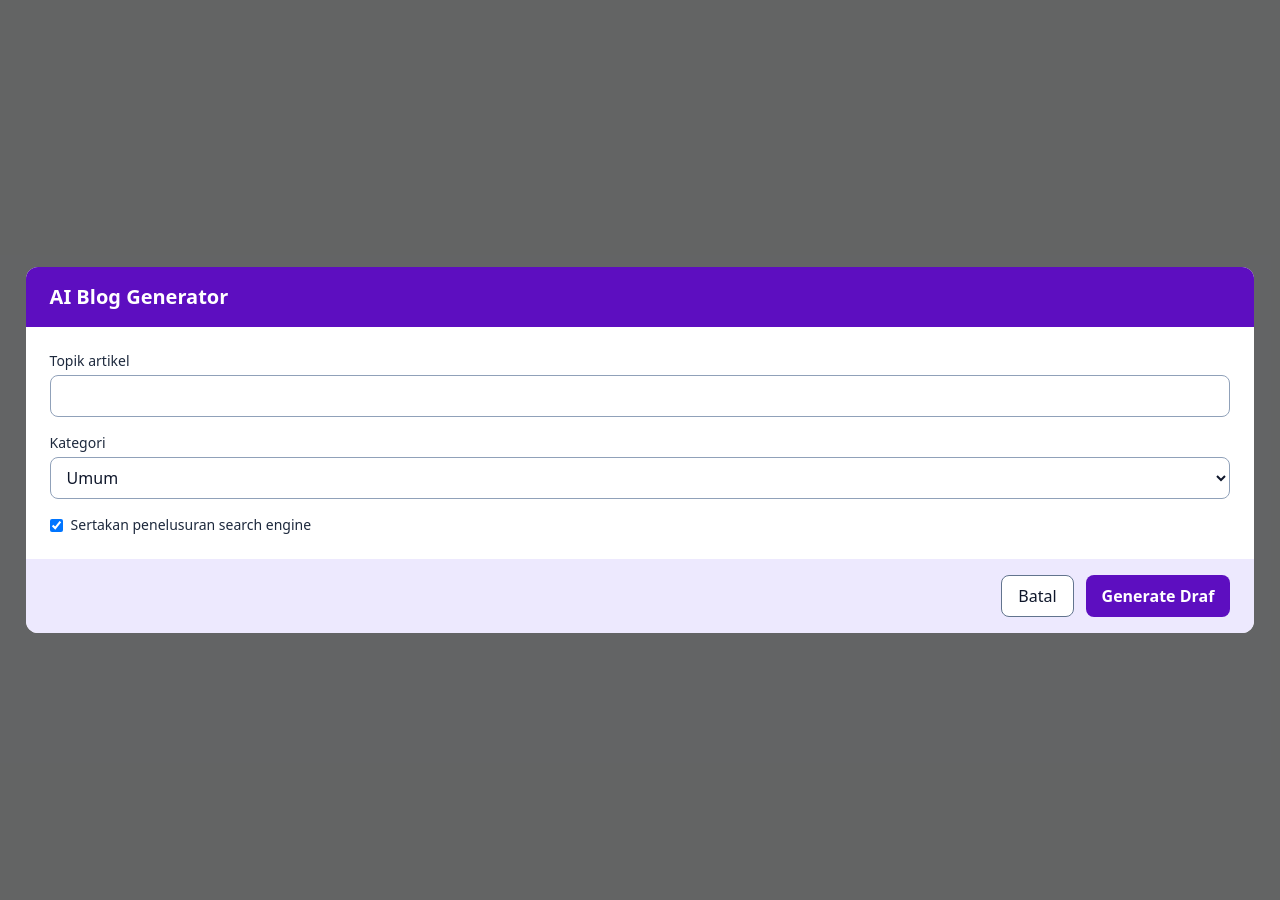
Test: AiPostGeneratorModal › dapat menonaktifkan search engine dan menangani draf tanpa sumber
Type "AI" into the field labelled "Topik artikel". click: (640, 396)
box: [50,375,1230,417]
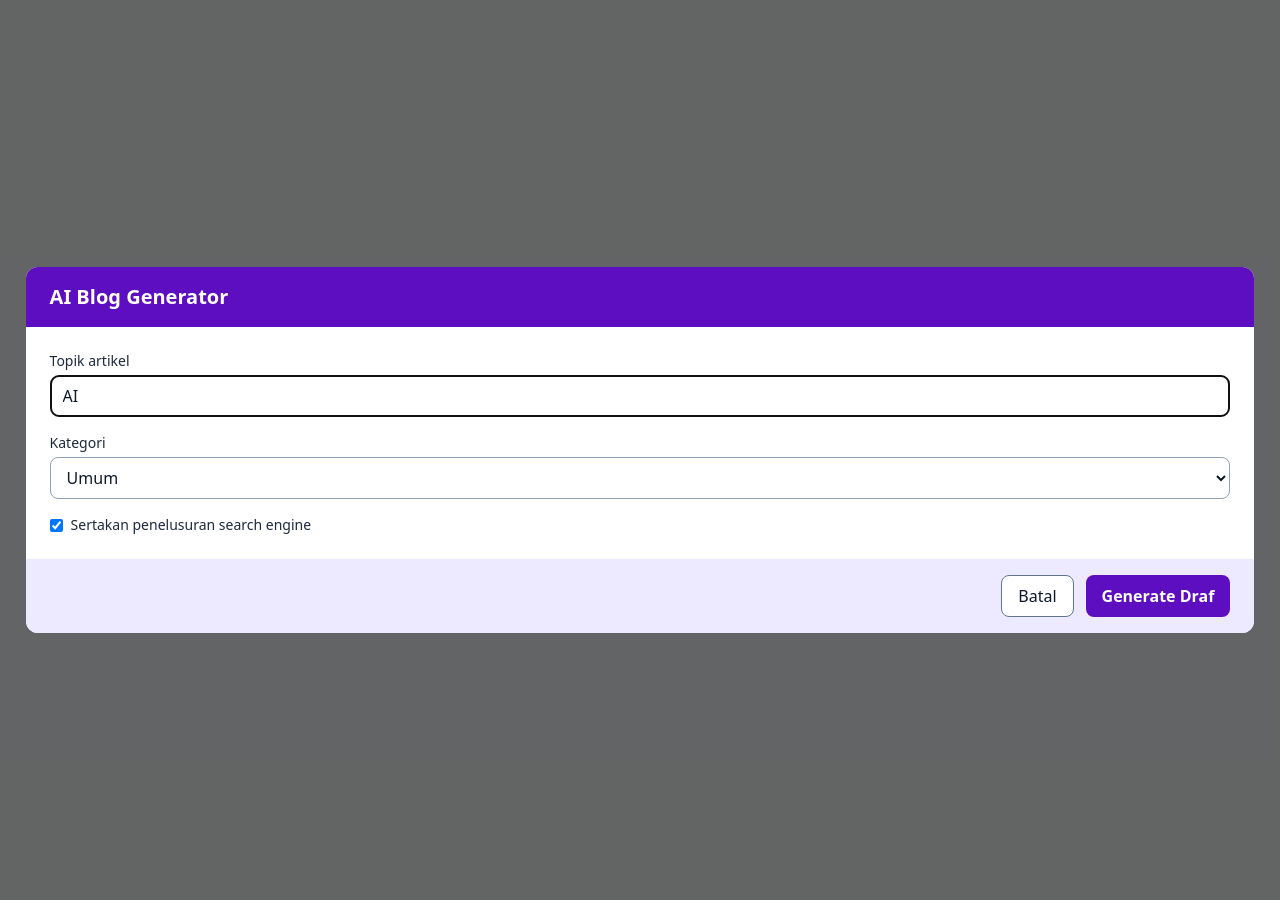
Click the checkbox labelled "Sertakan penelusuran search engine". click: (56, 525)
box: [50,518,63,532]
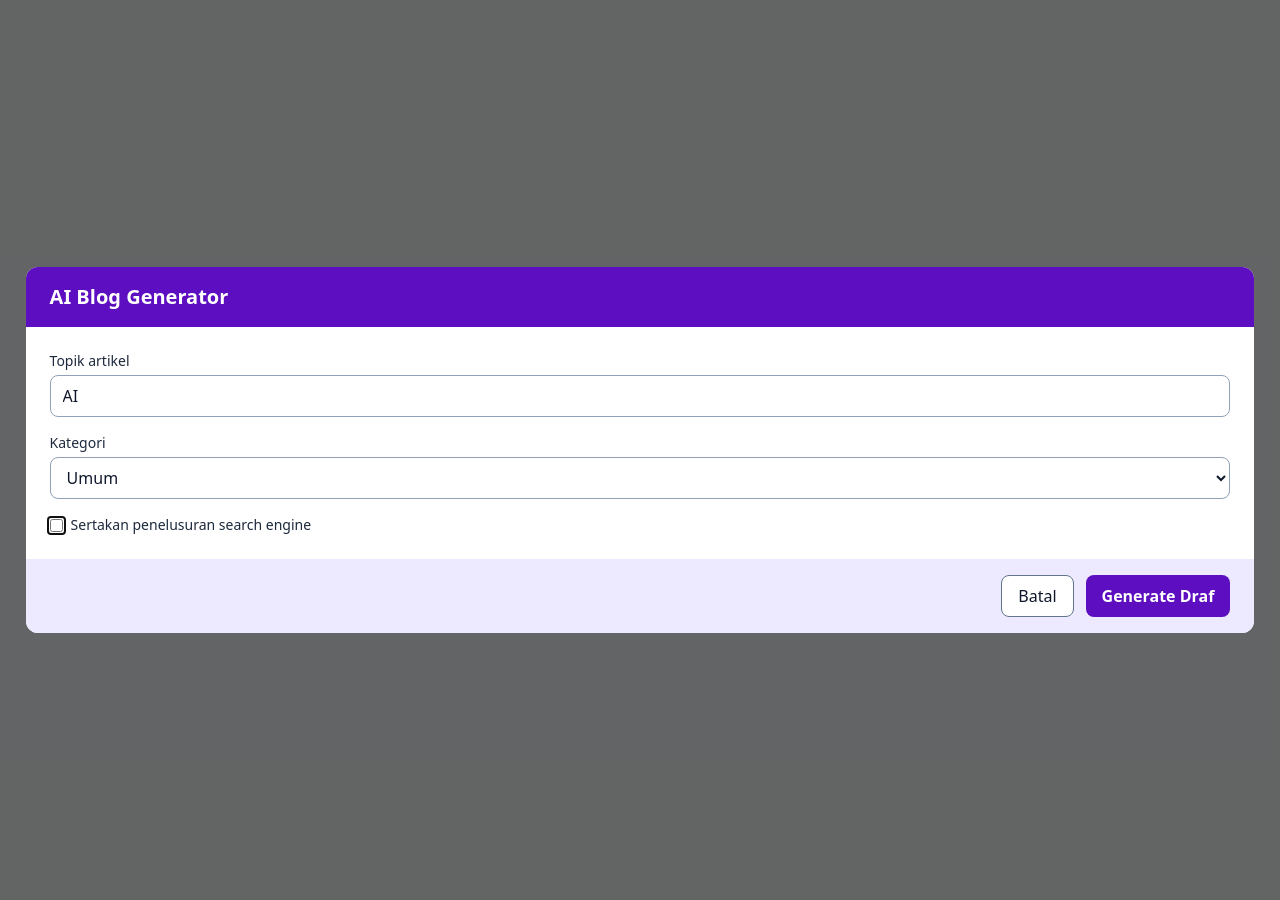
Click the button "Generate Draf". click: (1158, 596)
box: [1086,575,1230,617]
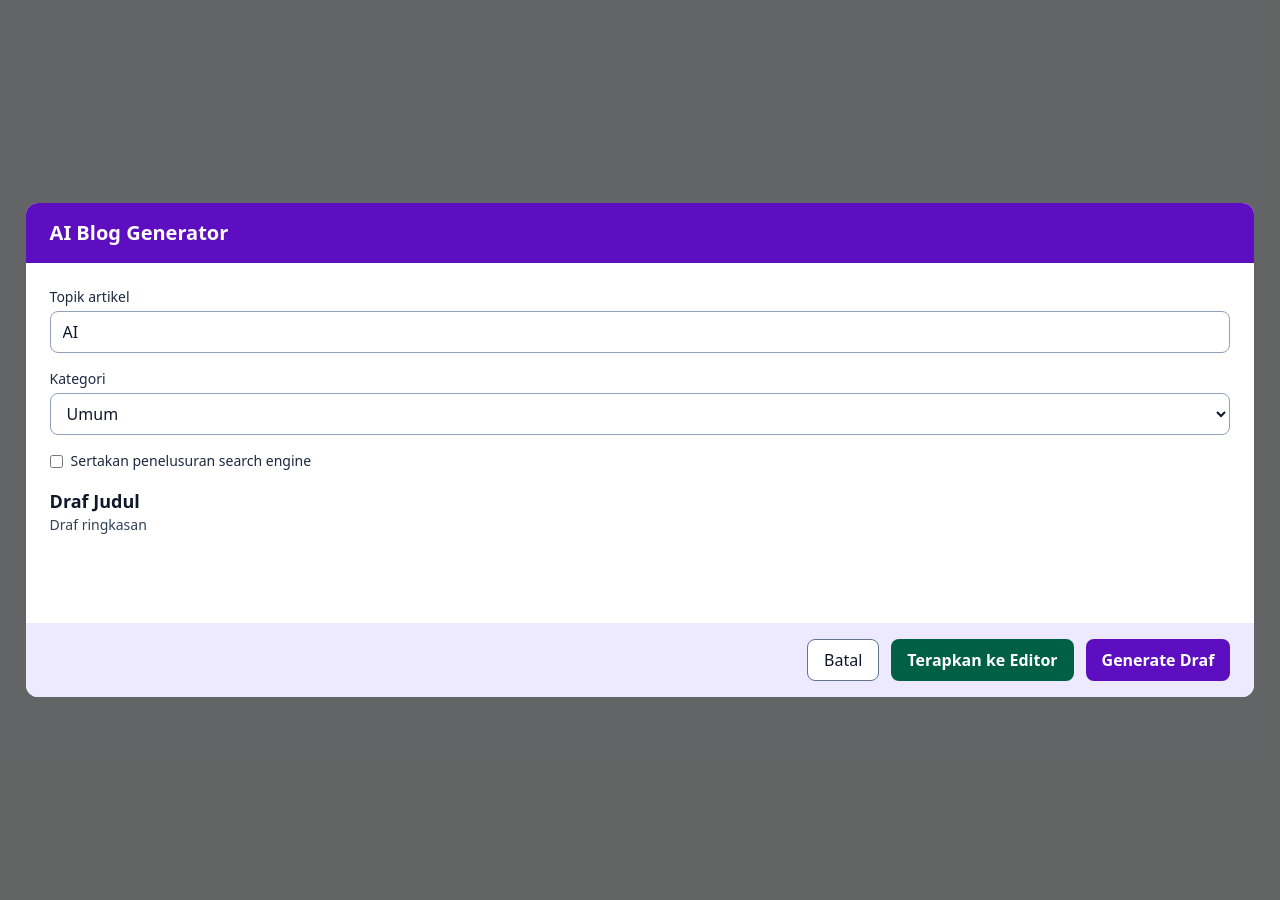
Expected: the heading "Draf Judul" is shown, [50,489,140,513]
